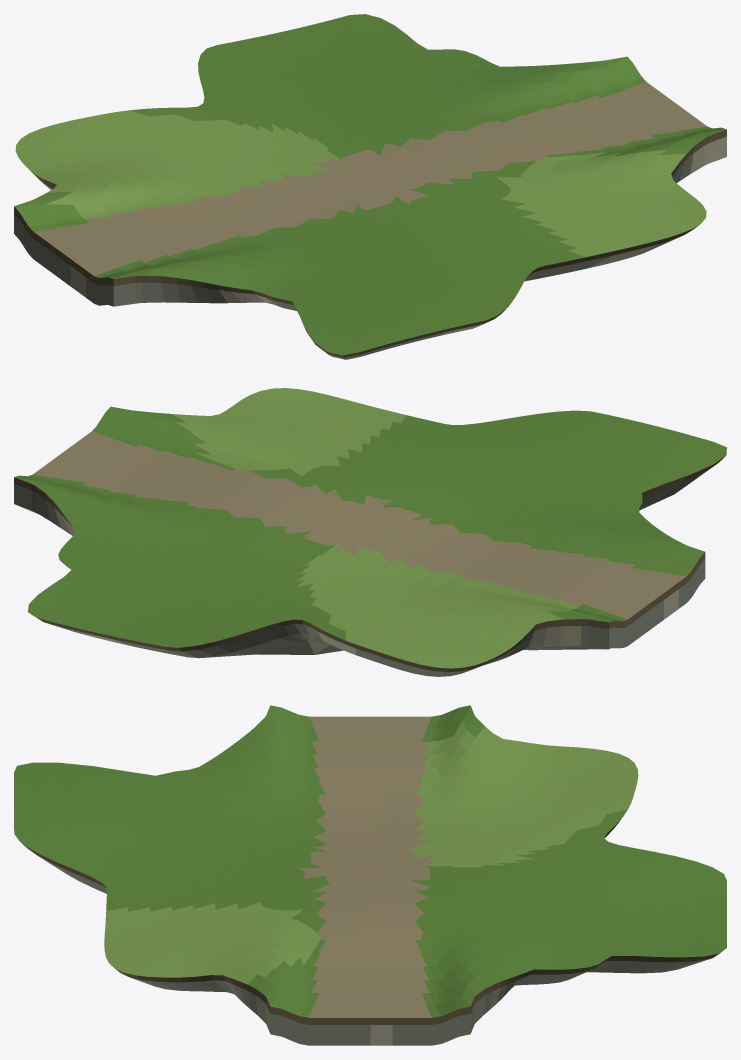
The model's file is shaded_grove_structure.fbx.
3 renders of one model, top to bottom at view 1: azimuth 30°, elevation 25°; view 2: azimuth 150°, elevation 25°; view 3: azimuth 270°, elevation 25°, orthographic. The views are drawn at different scales.
Parts seen in each view (by area): view 1: chunk_shaded_grove; view 2: chunk_shaded_grove; view 3: chunk_shaded_grove.
Boxes of the visible parts, box(x1,y1,x2,y2) form: chunk_shaded_grove: box(14, 14, 726, 359); chunk_shaded_grove: box(14, 388, 726, 676); chunk_shaded_grove: box(14, 705, 726, 1045).
Bounding box in the file's own units: 256 × 41.5 × 256.
